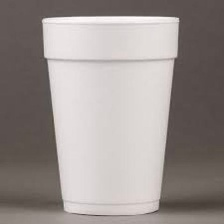paper_cup: (36, 11, 187, 218)
